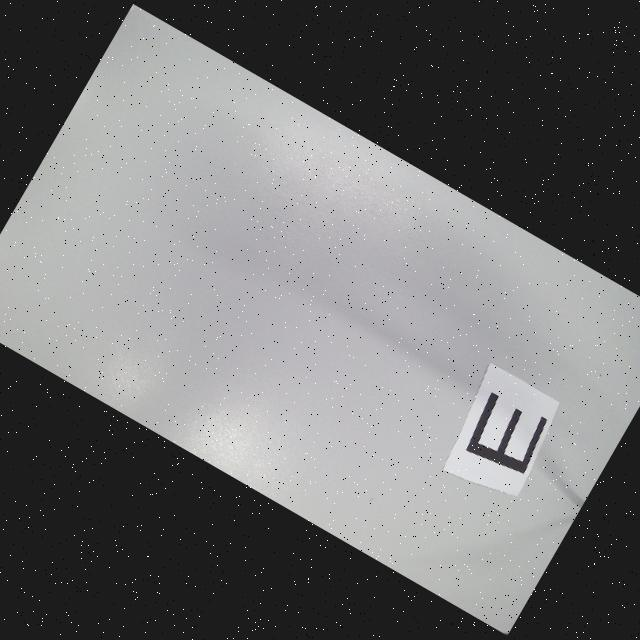FAKE: (460, 388, 555, 482)
